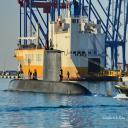submarine: (9, 50, 94, 95)
